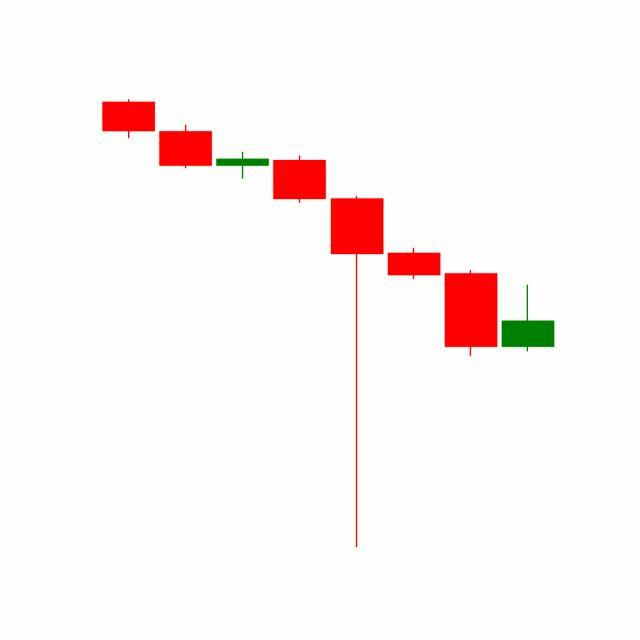Hikkake Pattern: (214, 148, 501, 549)
